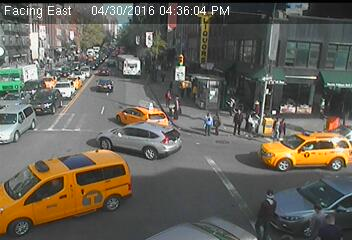neg: (42, 87, 64, 116), (317, 111, 339, 140), (122, 122, 141, 146), (129, 79, 147, 102), (95, 17, 112, 40), (84, 181, 100, 202), (64, 75, 80, 95), (5, 40, 19, 59), (134, 36, 145, 51), (90, 42, 100, 56), (54, 24, 64, 37)
pos: (252, 188, 288, 236), (304, 203, 331, 238), (228, 107, 250, 137), (209, 110, 228, 136), (169, 96, 188, 122), (192, 110, 210, 134), (267, 116, 283, 138), (280, 117, 295, 137), (163, 90, 176, 107)
